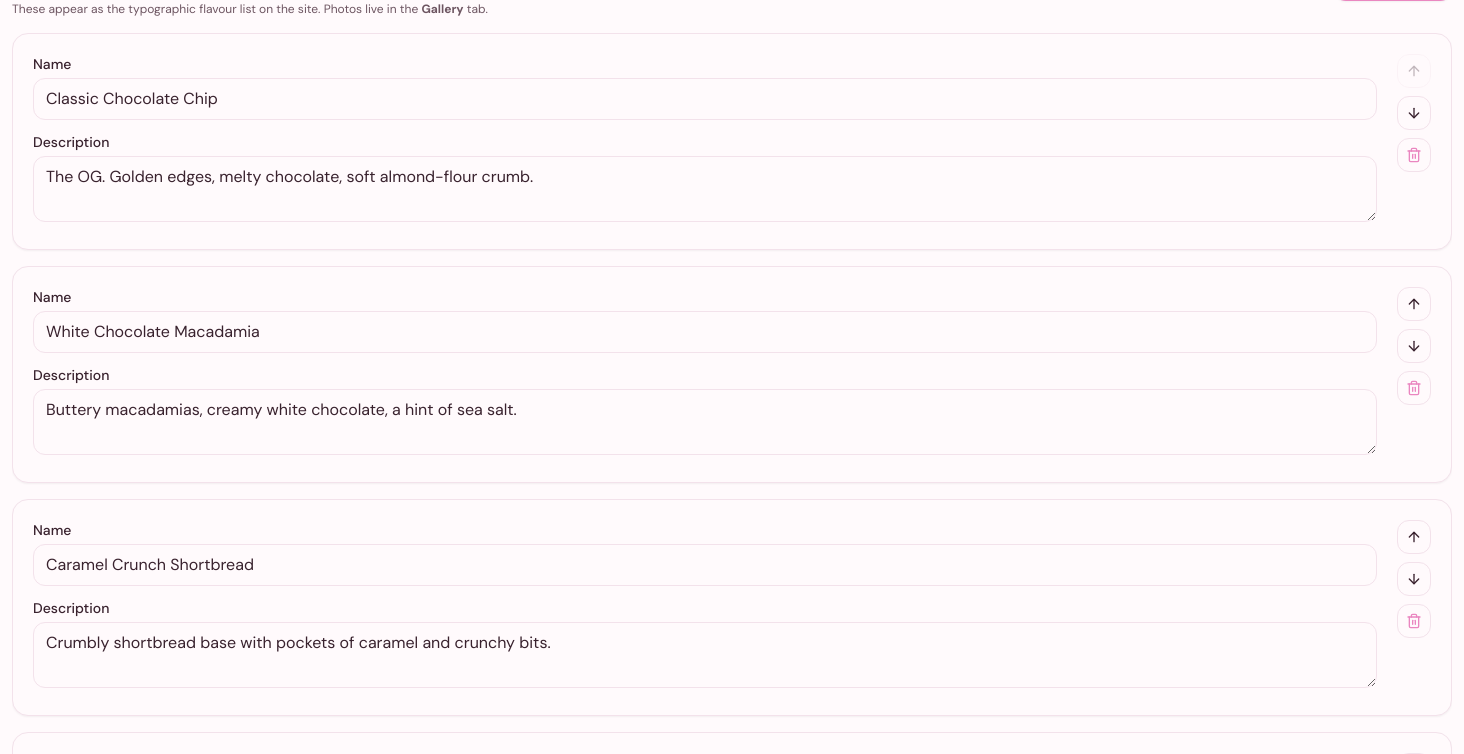
contract: Menu editor ↔ Menu public component › editing a flavour description shows the new description on the menu
This screenshot has width=1464, height=754.
Replace the text in the 1st text box labelled "Description" with "Brand new test description text." at x=705, y=189, box [33, 156, 1377, 222]
(page scrolled)
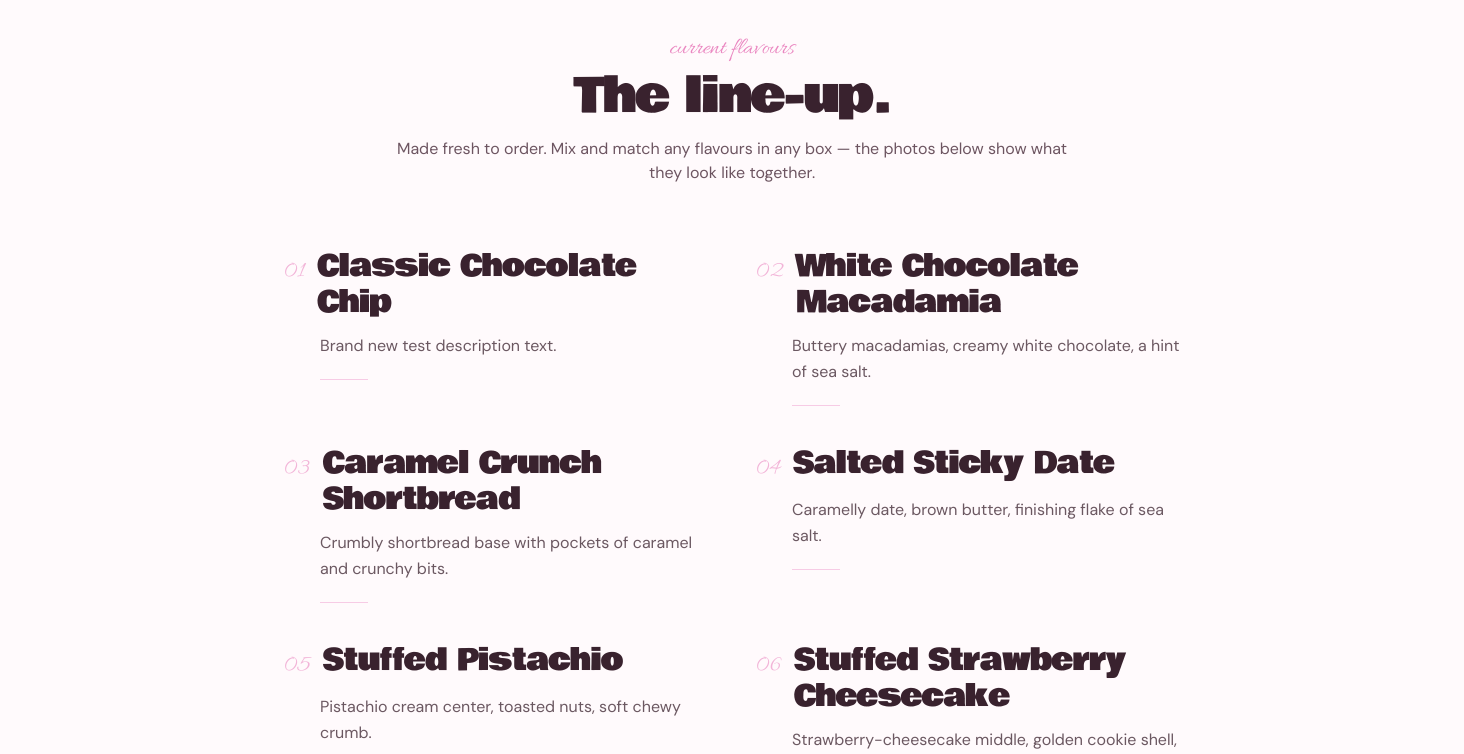
Check: the text "Brand new test description text." is shown, box [320, 335, 556, 356]
